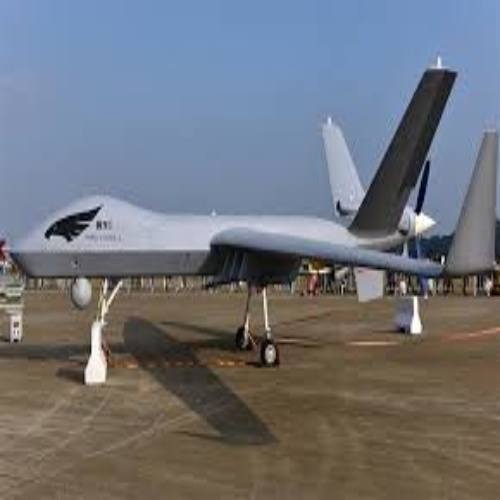uav: (7, 67, 499, 369)
